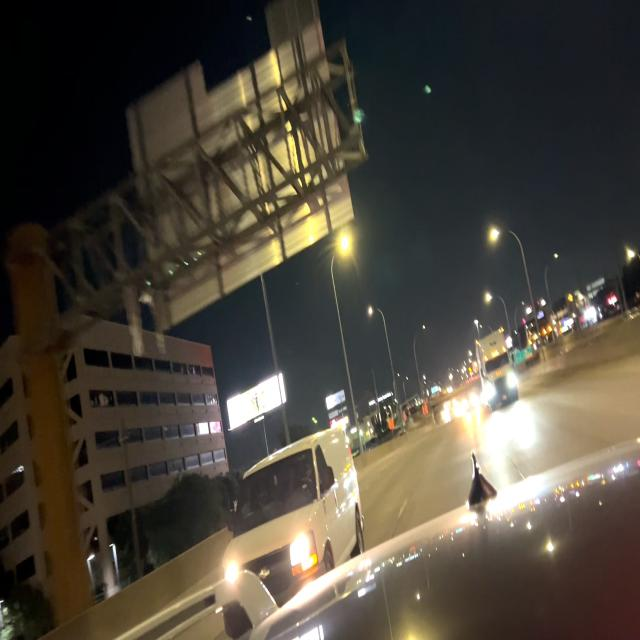back-of-sign: (125, 0, 356, 335)
